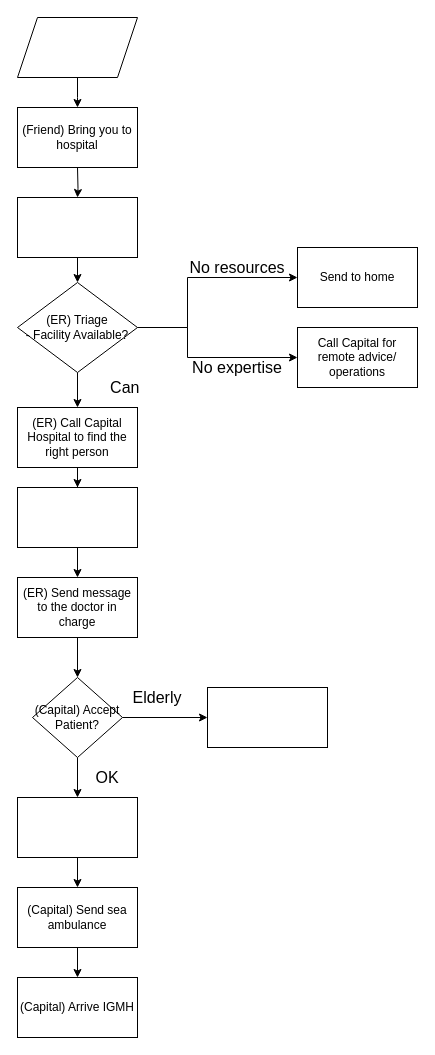
Some shapes in this 435 by 1055 pixel diagram are drawn without their labels. The centre of each missing label's shape, as x and y in pixels:
(Capital) Returns contact of the doctor: [77,517]
(Elderly) Medical Conditions (e.g. stroke): [77,47]
(ER) Check - ID and slot available?: [77,227]
(ER) Fill in form: [77,827]
No action: [267,717]
